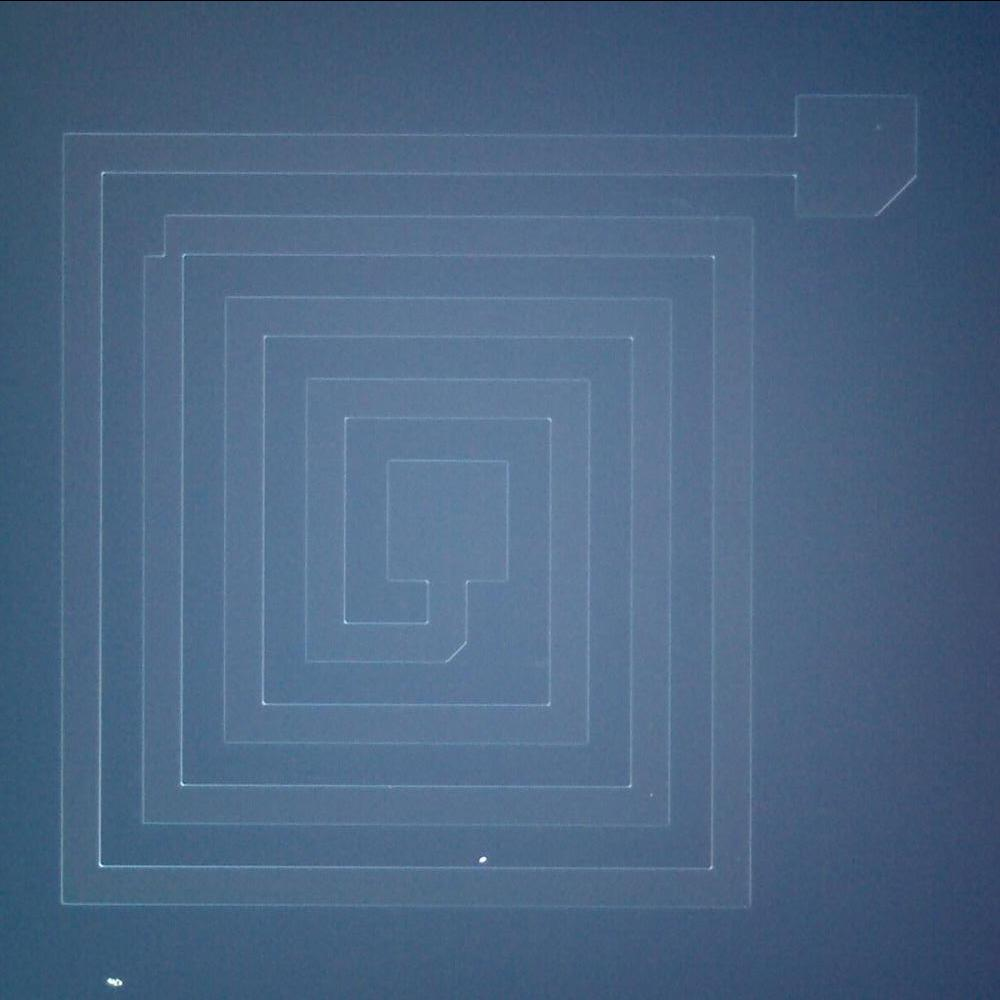dot: (467, 839, 500, 873)
edge circuit: (860, 164, 924, 224), (134, 205, 177, 269), (434, 630, 485, 674)
spot: (98, 972, 130, 992)
